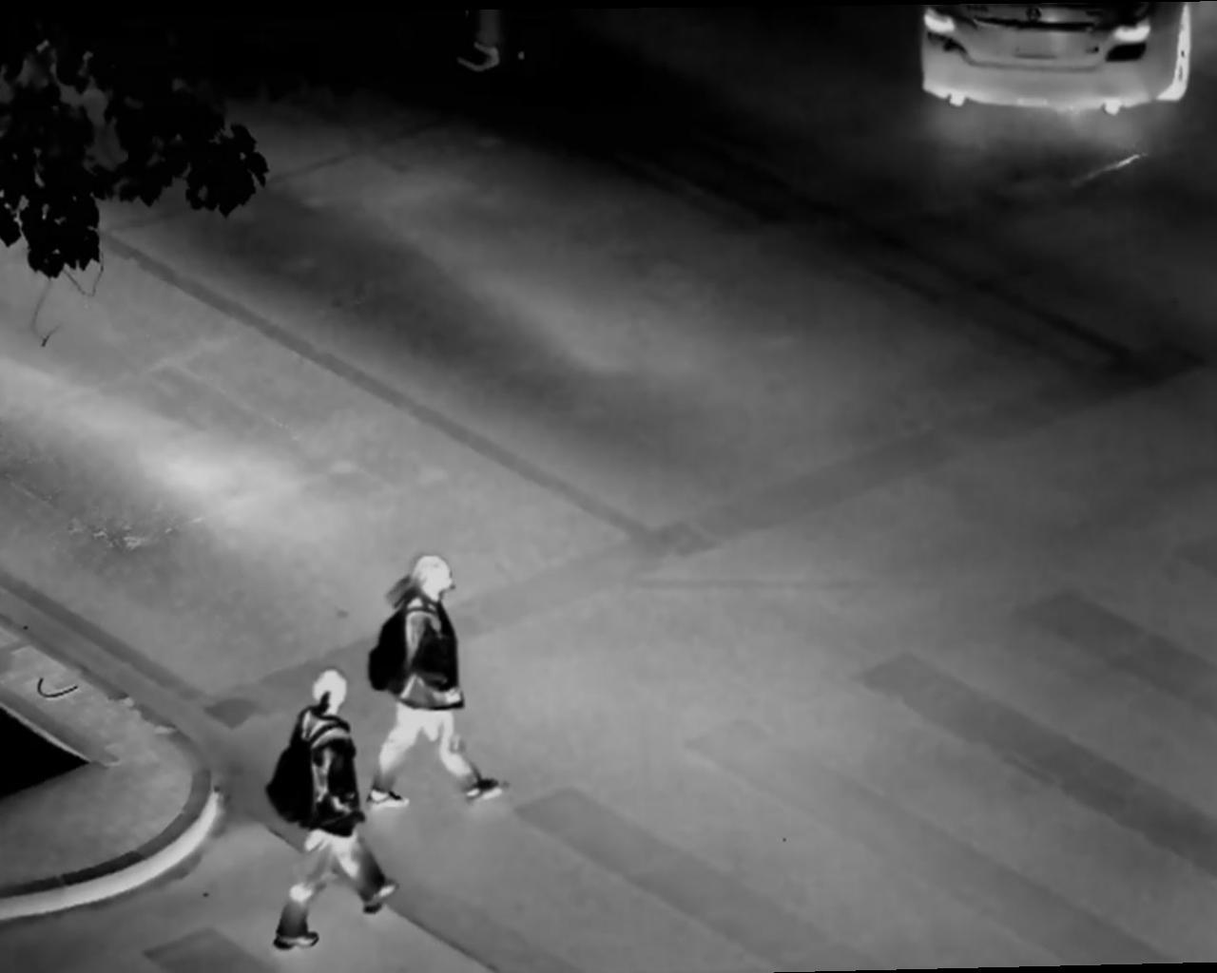person: (261, 663, 402, 956), (373, 549, 508, 803)
